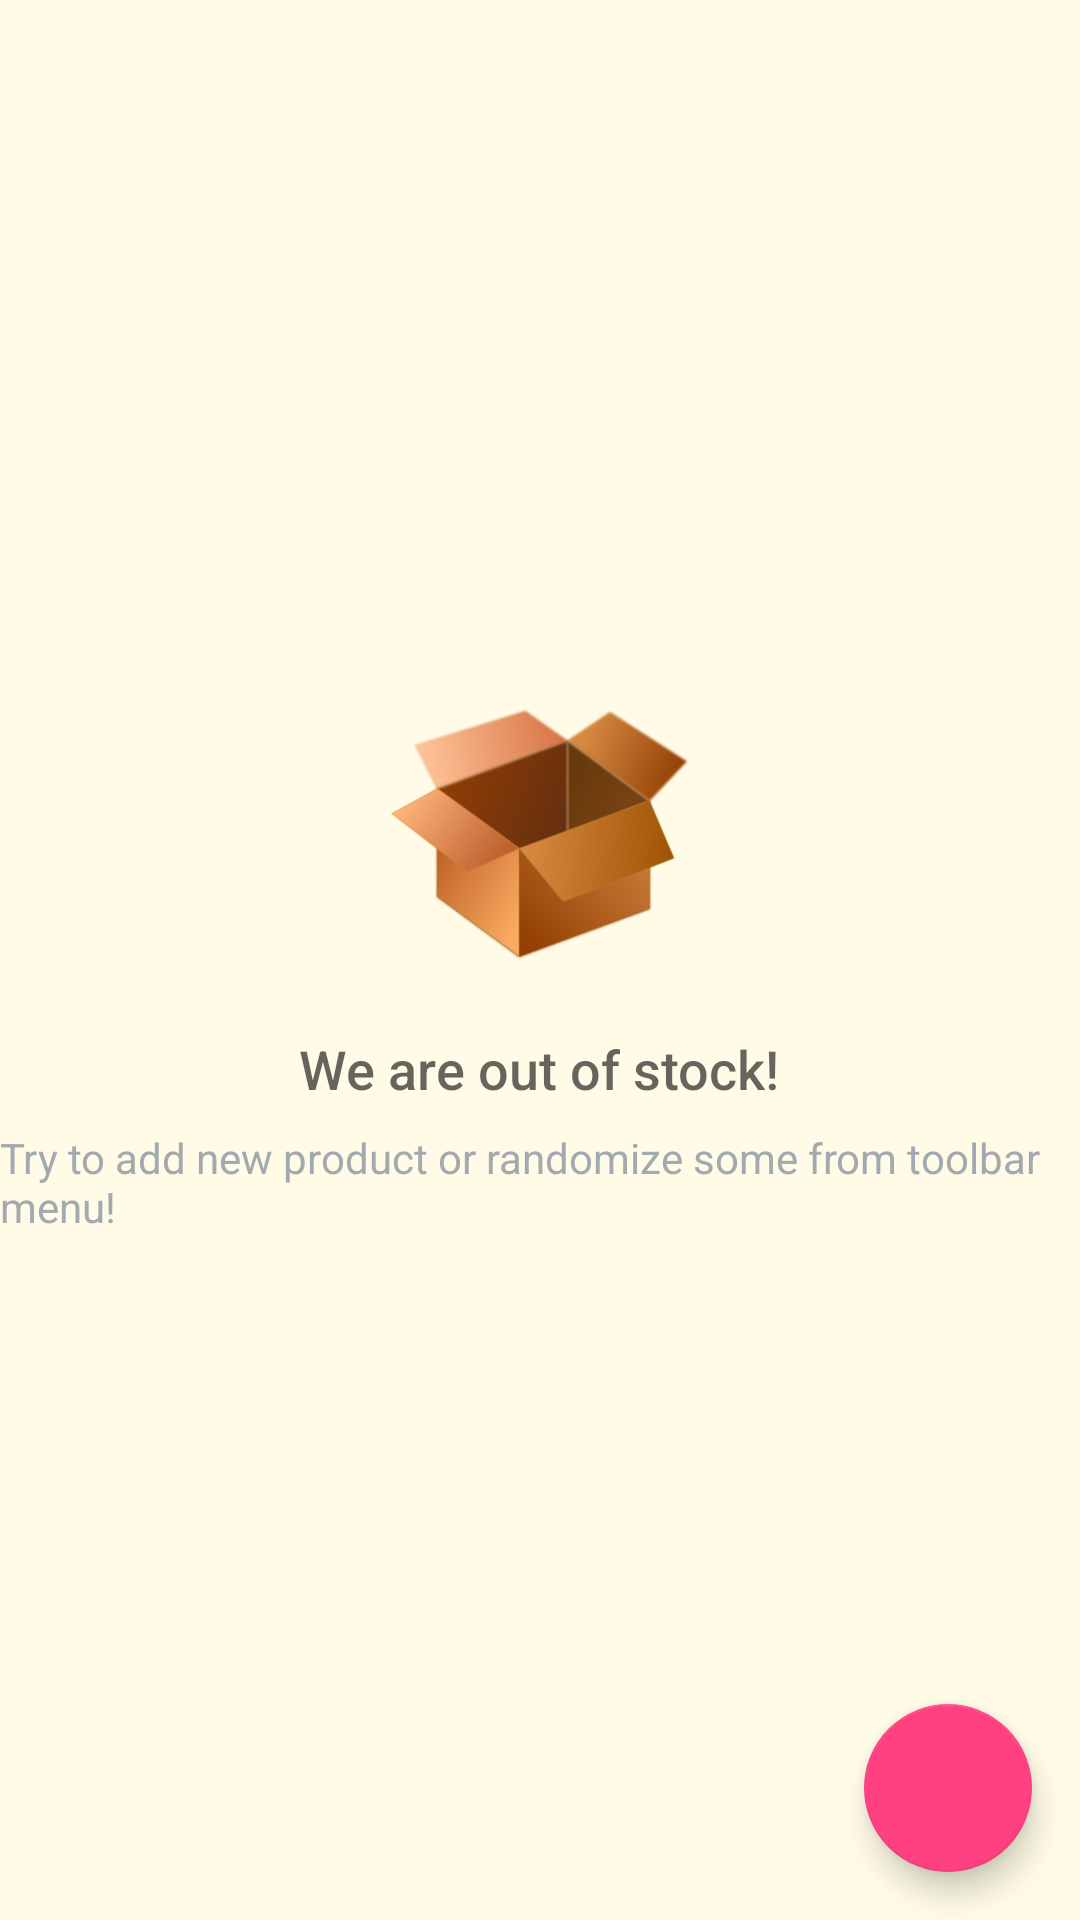

Screen size 1080×1920. Icon name, then its box in pixels as (left=x1, top=y1, right=x2, bottom=y2):
boxes empty: (left=391, top=710, right=688, bottom=958)
